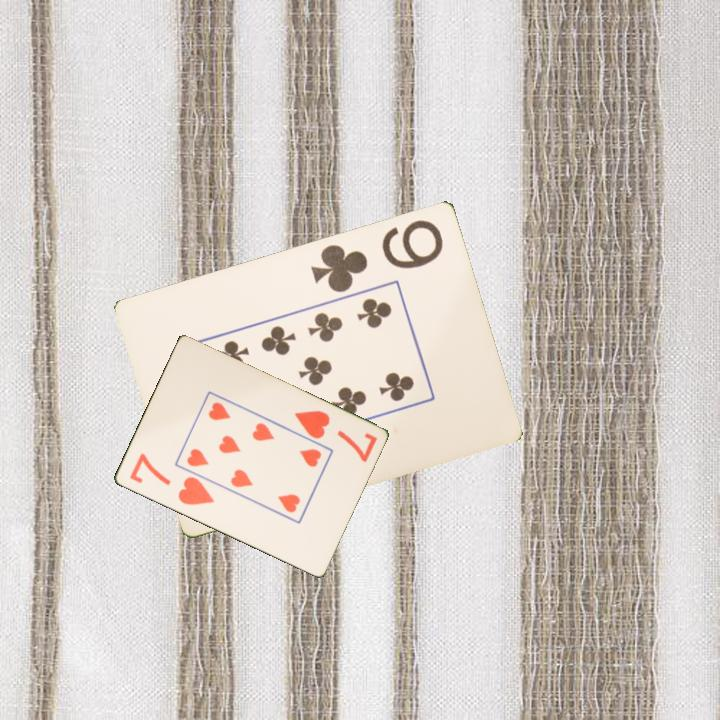7h: (126, 450, 217, 509), (290, 407, 380, 465)
9c: (307, 215, 447, 295)
